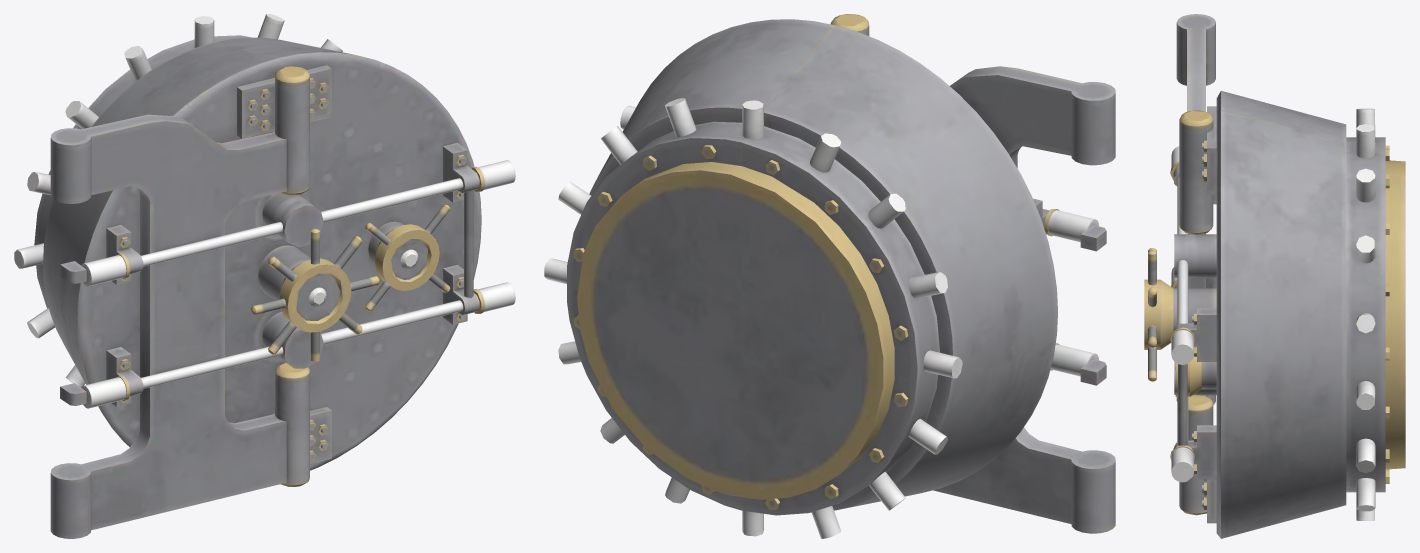
File: sm_bank_vault_01a.glb
3 renders of one model, left to right at view 1: azimuth 30°, elevation 25°; view 2: azimuth 150°, elevation 25°; view 3: azimuth 270°, elevation 25°, orthographic. The views are drawn at different scales.
Visible parts, largest first — view 1: SM_Bank_Vault_01a_LOD0; view 2: SM_Bank_Vault_01a_LOD0; view 3: SM_Bank_Vault_01a_LOD0.
Part boxes in pixels (bbox=[...]): SM_Bank_Vault_01a_LOD0: bbox=[14, 14, 515, 538]; SM_Bank_Vault_01a_LOD0: bbox=[544, 14, 1115, 538]; SM_Bank_Vault_01a_LOD0: bbox=[1144, 14, 1405, 538].
Bounding box in the file's own units: 2.99 × 2.69 × 1.56.
Materials: 1 (1 with a texture image).
